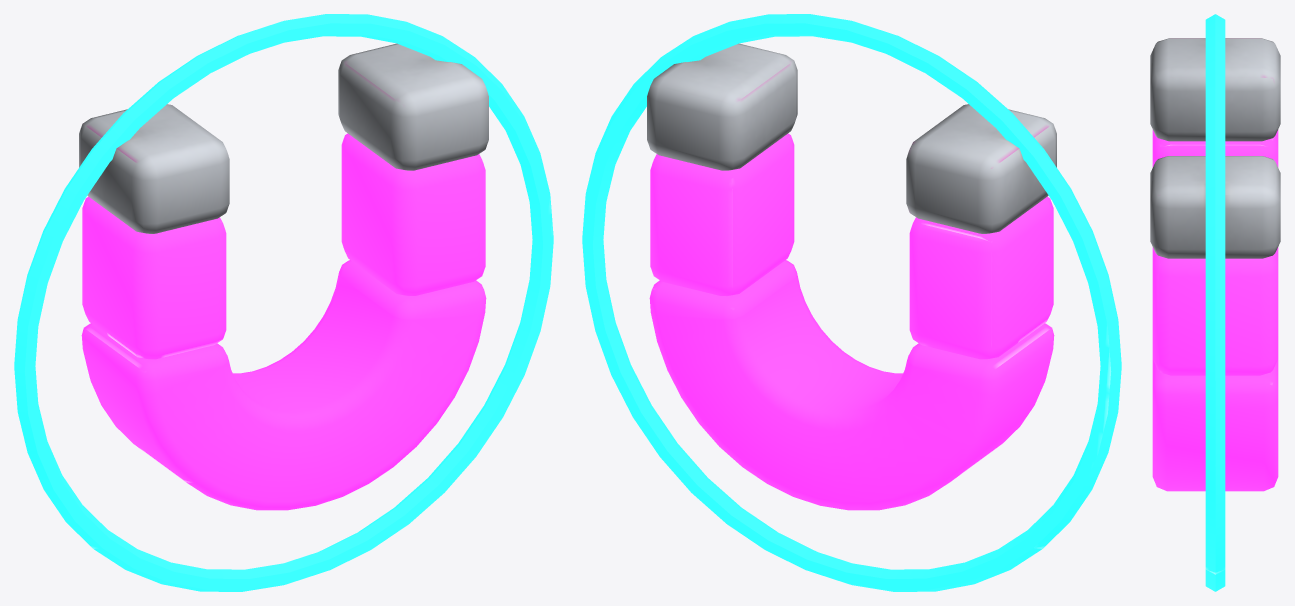
File: rn_powerup_magnet.glb
3 renders of one model, left to right at view 1: azimuth 30°, elevation 25°; view 2: azimuth 150°, elevation 25°; view 3: azimuth 270°, elevation 25°, orthographic. The views are drawn at different scales.
Visible parts, largest first — view 1: rn_powerup_magnet; view 2: rn_powerup_magnet; view 3: rn_powerup_magnet.
Part boxes in pixels (x1,y1,x2,y2): rn_powerup_magnet: (14, 14, 553, 591); rn_powerup_magnet: (582, 14, 1121, 591); rn_powerup_magnet: (1150, 14, 1280, 591).
Bounding box in the file's own units: 1.29 × 1.29 × 0.29.
Materials: 3 (3 with a texture image).
